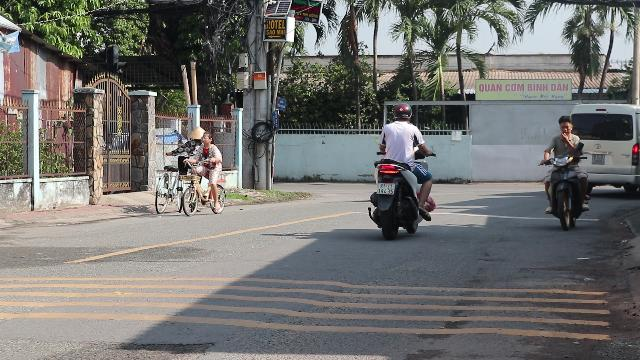helmet: (392, 104, 412, 122)
licenseplate: (378, 184, 394, 194)
motorcyclist: (366, 102, 436, 238), (540, 114, 592, 228)
nohelmet: (558, 114, 574, 136)
